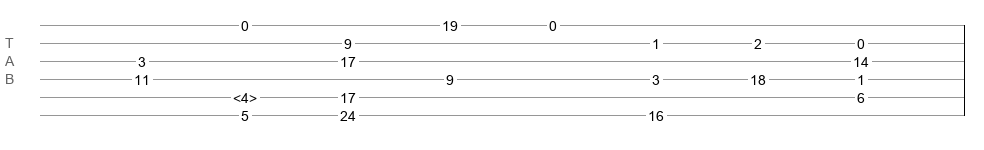0: (241, 18, 249, 28), (549, 18, 557, 28), (857, 36, 865, 46)
1: (652, 36, 660, 46), (857, 72, 865, 82)
11: (134, 72, 150, 82)
14: (853, 54, 869, 64)
16: (648, 108, 664, 118)
17: (340, 54, 356, 64), (340, 90, 356, 100)
18: (750, 72, 766, 82)
19: (442, 18, 458, 28)
2: (754, 36, 762, 46)
24: (340, 108, 356, 118)
3: (138, 54, 146, 64), (652, 72, 660, 82)
5: (241, 108, 249, 118)
6: (857, 90, 865, 100)
9: (344, 36, 352, 46), (446, 72, 454, 82)
harmonic: (233, 90, 257, 100)
